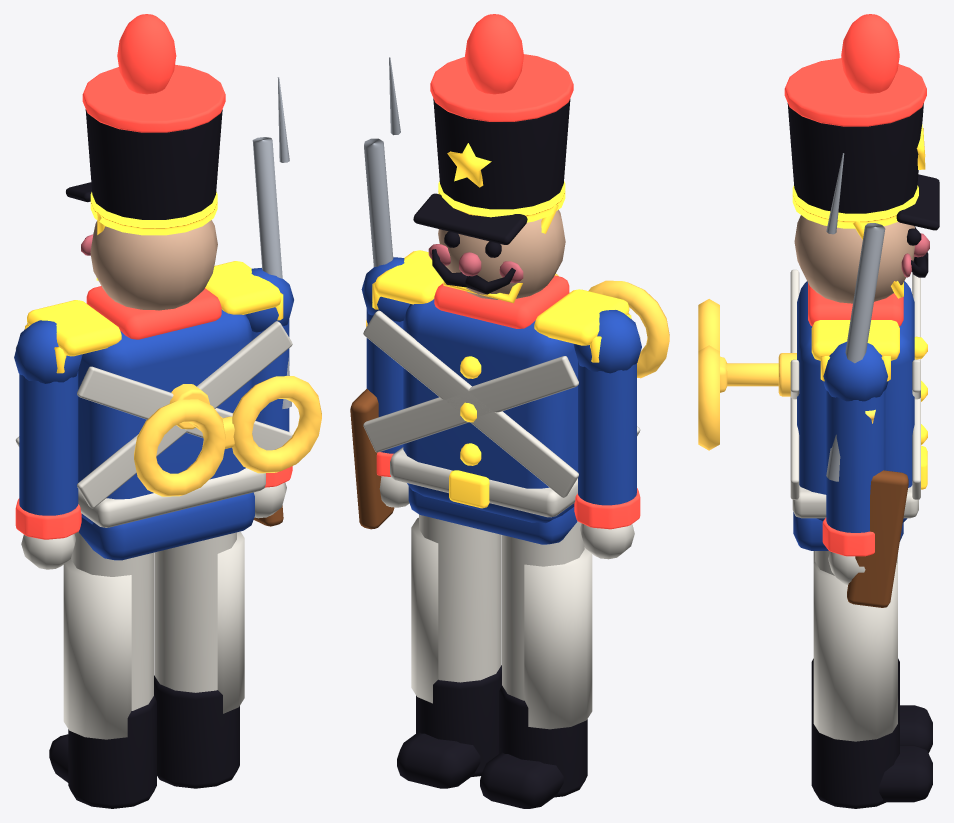
The model's file is tin_soldier.glb.
3 views of the same model, side by side, from view 1: azimuth 30°, elevation 25°; view 2: azimuth 150°, elevation 25°; view 3: azimuth 270°, elevation 25° (orthographic).
Parts seen in each view (by area): view 1: Body, LegL, LegR, ArmL, Key, ArmR; view 2: Body, LegL, LegR, ArmL, ArmR, Key; view 3: Body, LegR, ArmR, Key, LegL.
Boxes of the visible parts, box(x1,y1,x2,y2) form: Body: box(15, 14, 292, 560); LegL: box(49, 531, 156, 808); LegR: box(154, 531, 244, 788); ArmL: box(14, 320, 82, 569); Key: box(134, 376, 321, 496); ArmR: box(245, 77, 293, 526); Body: box(363, 14, 640, 544); LegL: box(480, 521, 592, 808); LegR: box(397, 514, 501, 788); ArmL: box(573, 310, 641, 559); ArmR: box(350, 57, 409, 529); Key: box(555, 273, 669, 378); Body: box(784, 14, 939, 550); LegR: box(811, 551, 932, 808); ArmR: box(822, 153, 908, 607); Key: box(698, 299, 796, 450); LegL: box(811, 551, 932, 753).
Bounding box in the file's own units: 0.2612 × 0.7068 × 0.204.
